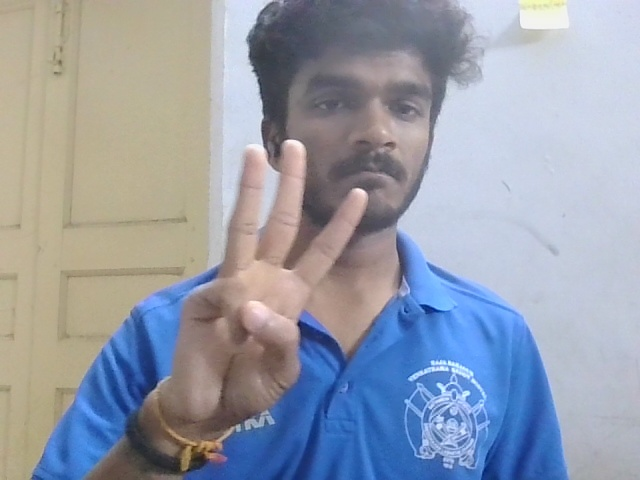water: (157, 99, 375, 436)
